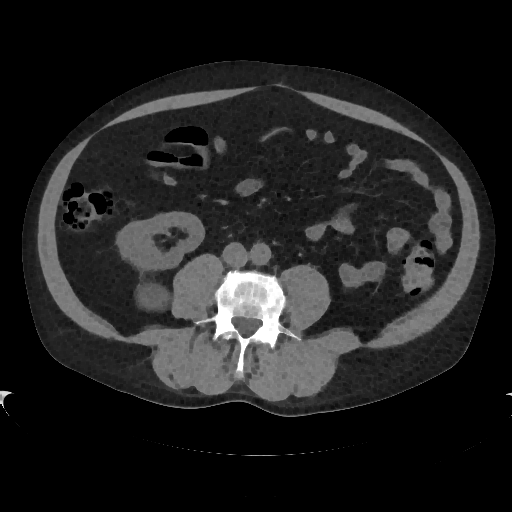Lesion: (136, 284, 170, 315)
